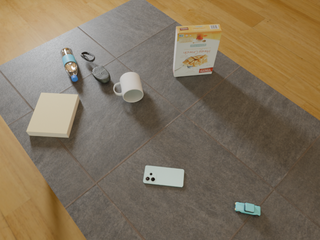book: (27, 93, 79, 137)
bottle: (61, 48, 78, 81)
box: (173, 24, 222, 77)
cup: (114, 72, 143, 102)
mouse: (92, 66, 110, 83)
phone: (143, 166, 184, 187)
toy_car: (235, 202, 260, 217)
